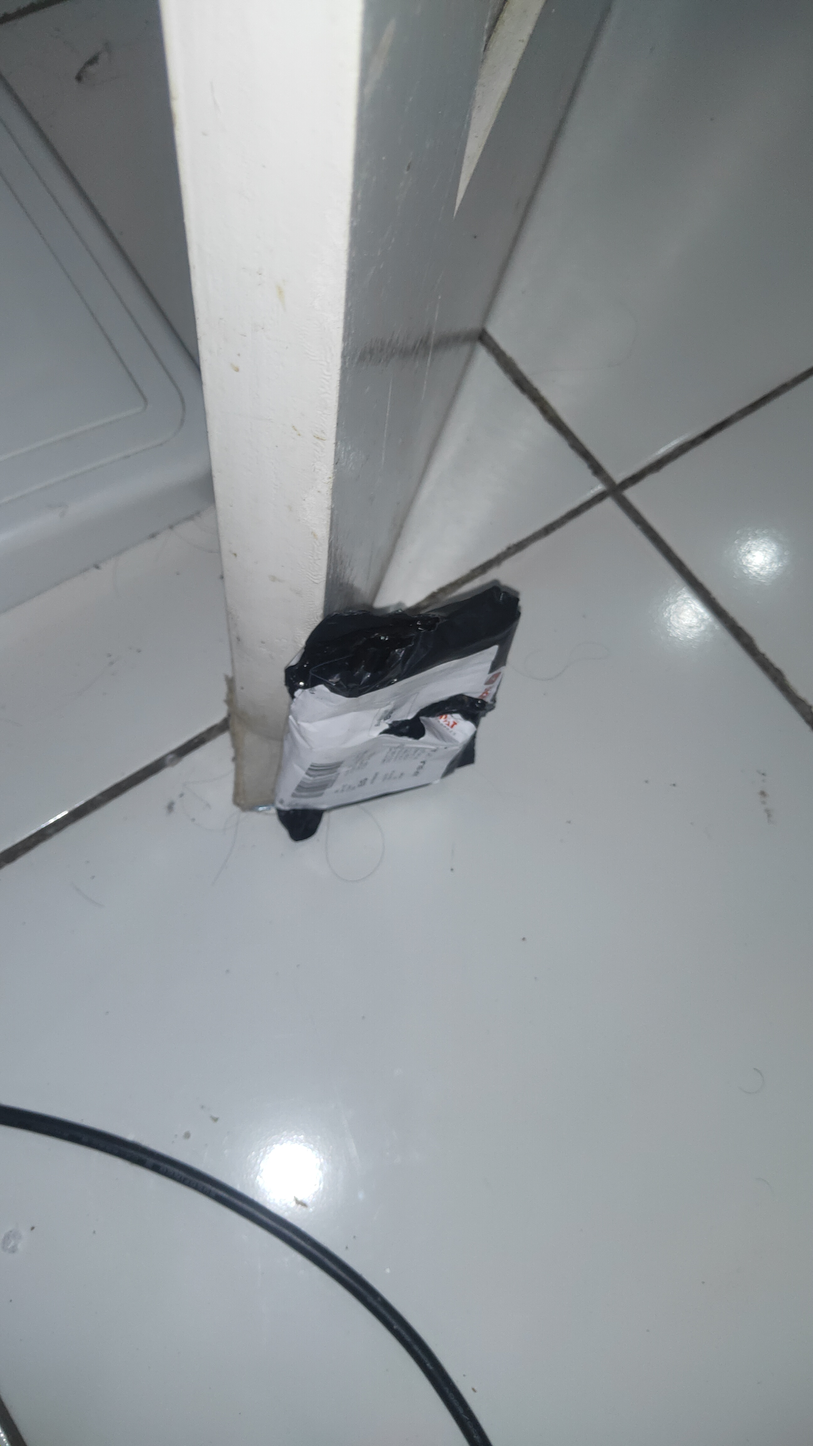damaged package: (283, 616, 443, 704), (378, 693, 503, 745)
undamaged: (270, 580, 522, 846)
